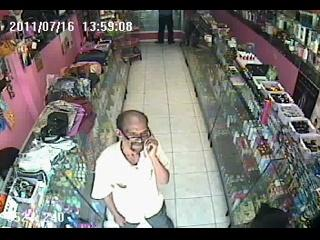Normal: (89, 109, 175, 228), (154, 10, 176, 44), (75, 50, 109, 66)
